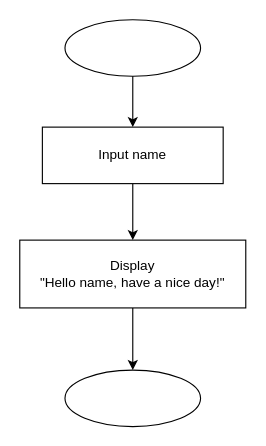
This 266x446 diagram has some shape labels left out. The shapes that lost their labels are listed below. From the top down, each one's centre as x and y in pixels, then its label:
At (132,47): "START".
At (132,398): "END".
